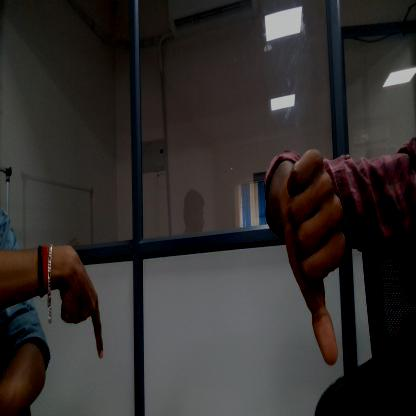Down: (63, 278, 106, 364)
Thumbs Down: (284, 149, 342, 362)
